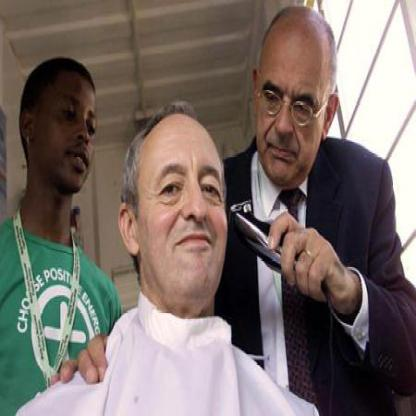face: (135, 109, 233, 313), (255, 12, 328, 189), (35, 62, 103, 200)
